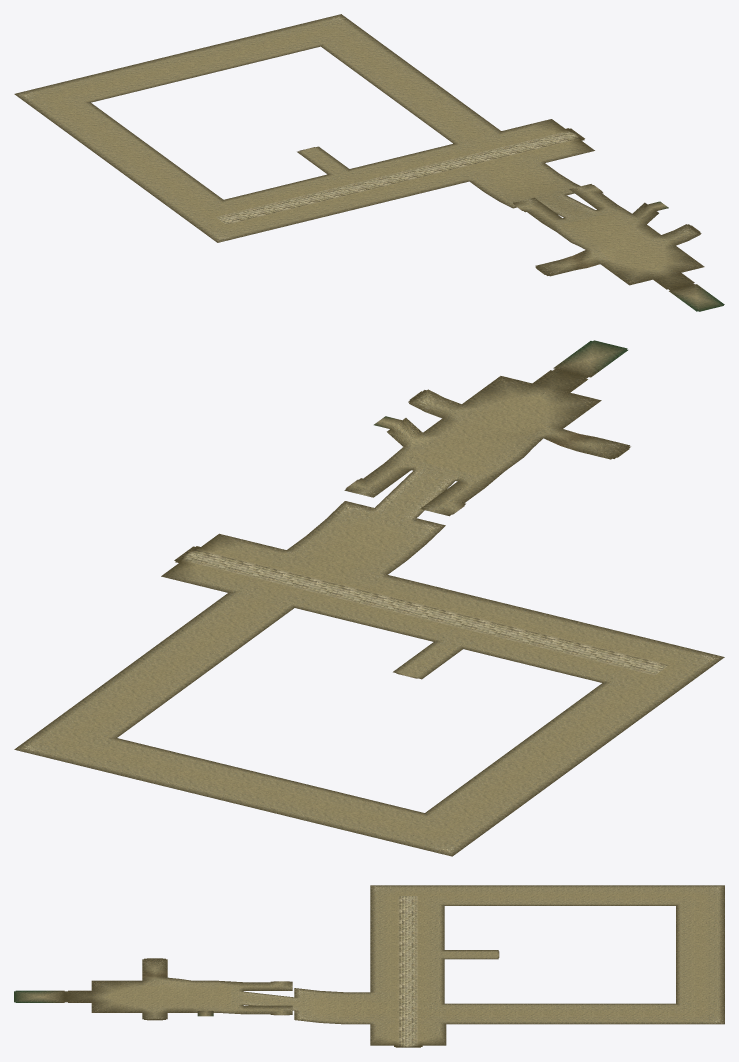
The model's file is MISSION12_INTERIOR_LANDSCAPE02.glb.
The picture shows the model from 3 angles, top to bottom: view 1: azimuth 30°, elevation 25°; view 2: azimuth 150°, elevation 25°; view 3: azimuth 270°, elevation 25°; orthographic projection. The views are drawn at different scales.
Parts seen in each view (by area): view 1: MISSION12_INTERIOR_LANDSCAPE02006, MISSION12_INTERIOR_LANDSCAPE02019, MISSION12_INTERIOR_LANDSCAPE02018, MISSION12_INTERIOR_LANDSCAPE02021, MISSION12_INTERIOR_LANDSCAPE02023, MISSION12_INTERIOR_LANDSCAPE02024, MISSION12_INTERIOR_LANDSCAPE02020, MISSION12_INTERIOR_LANDSCAPE02022, MISSION12_INTERIOR_LANDSCAPE02047, MISSION12_INTERIOR_LANDSCAPE02026, MISSION12_INTERIOR_LANDSCAPE02052, MISSION12_INTERIOR_LANDSCAPE02041 (+35 smaller); view 2: MISSION12_INTERIOR_LANDSCAPE02014, MISSION12_INTERIOR_LANDSCAPE02011, MISSION12_INTERIOR_LANDSCAPE02016, MISSION12_INTERIOR_LANDSCAPE02009, MISSION12_INTERIOR_LANDSCAPE02021, MISSION12_INTERIOR_LANDSCAPE02024, MISSION12_INTERIOR_LANDSCAPE02019, MISSION12_INTERIOR_LANDSCAPE02022, MISSION12_INTERIOR_LANDSCAPE02047, MISSION12_INTERIOR_LANDSCAPE02018, MISSION12_INTERIOR_LANDSCAPE02023, MISSION12_INTERIOR_LANDSCAPE02020 (+35 smaller); view 3: MISSION12_INTERIOR_LANDSCAPE02009, MISSION12_INTERIOR_LANDSCAPE02006, MISSION12_INTERIOR_LANDSCAPE02016, MISSION12_INTERIOR_LANDSCAPE02018, MISSION12_INTERIOR_LANDSCAPE02019, MISSION12_INTERIOR_LANDSCAPE02020, MISSION12_INTERIOR_LANDSCAPE02021, MISSION12_INTERIOR_LANDSCAPE02022, MISSION12_INTERIOR_LANDSCAPE02023, MISSION12_INTERIOR_LANDSCAPE02024, MISSION12_INTERIOR_LANDSCAPE02047, MISSION12_INTERIOR_LANDSCAPE02011 (+38 smaller).
Part boxes in pixels (box(x1,y1,x2,y2)): MISSION12_INTERIOR_LANDSCAPE02006: box(586, 241, 664, 274); MISSION12_INTERIOR_LANDSCAPE02019: box(239, 197, 317, 230); MISSION12_INTERIOR_LANDSCAPE02018: box(189, 209, 267, 242); MISSION12_INTERIOR_LANDSCAPE02021: box(340, 172, 418, 205); MISSION12_INTERIOR_LANDSCAPE02023: box(440, 148, 519, 181); MISSION12_INTERIOR_LANDSCAPE02024: box(491, 135, 569, 168); MISSION12_INTERIOR_LANDSCAPE02020: box(289, 185, 368, 218); MISSION12_INTERIOR_LANDSCAPE02022: box(390, 160, 468, 193); MISSION12_INTERIOR_LANDSCAPE02047: box(14, 81, 91, 115); MISSION12_INTERIOR_LANDSCAPE02026: box(160, 188, 238, 221); MISSION12_INTERIOR_LANDSCAPE02052: box(266, 20, 344, 52); MISSION12_INTERIOR_LANDSCAPE02041: box(72, 124, 149, 157); MISSION12_INTERIOR_LANDSCAPE02014: box(359, 490, 465, 543); MISSION12_INTERIOR_LANDSCAPE02011: box(398, 455, 503, 502); MISSION12_INTERIOR_LANDSCAPE02016: box(320, 527, 426, 574); MISSION12_INTERIOR_LANDSCAPE02009: box(437, 427, 542, 471); MISSION12_INTERIOR_LANDSCAPE02021: box(416, 591, 522, 636); MISSION12_INTERIOR_LANDSCAPE02024: box(214, 542, 319, 586); MISSION12_INTERIOR_LANDSCAPE02019: box(551, 624, 656, 668); MISSION12_INTERIOR_LANDSCAPE02022: box(349, 575, 454, 619); MISSION12_INTERIOR_LANDSCAPE02047: box(385, 812, 490, 856); MISSION12_INTERIOR_LANDSCAPE02018: box(619, 640, 724, 685); MISSION12_INTERIOR_LANDSCAPE02023: box(281, 558, 387, 603); MISSION12_INTERIOR_LANDSCAPE02020: box(484, 608, 589, 652); MISSION12_INTERIOR_LANDSCAPE02009: box(167, 977, 218, 1002); MISSION12_INTERIOR_LANDSCAPE02006: box(117, 977, 167, 1002); MISSION12_INTERIOR_LANDSCAPE02016: box(319, 991, 370, 1013); MISSION12_INTERIOR_LANDSCAPE02018: box(370, 885, 420, 906); MISSION12_INTERIOR_LANDSCAPE02019: box(370, 906, 420, 927); MISSION12_INTERIOR_LANDSCAPE02020: box(370, 928, 420, 949); MISSION12_INTERIOR_LANDSCAPE02021: box(370, 949, 420, 970); MISSION12_INTERIOR_LANDSCAPE02022: box(370, 971, 420, 992); MISSION12_INTERIOR_LANDSCAPE02023: box(370, 992, 420, 1013); MISSION12_INTERIOR_LANDSCAPE02024: box(370, 1013, 420, 1034); MISSION12_INTERIOR_LANDSCAPE02047: box(674, 885, 724, 906); MISSION12_INTERIOR_LANDSCAPE02011: box(218, 980, 268, 1005).
Size of the model in its own units: 60.75 by 3.25 by 112.
Materials: 16 (16 with a texture image).
